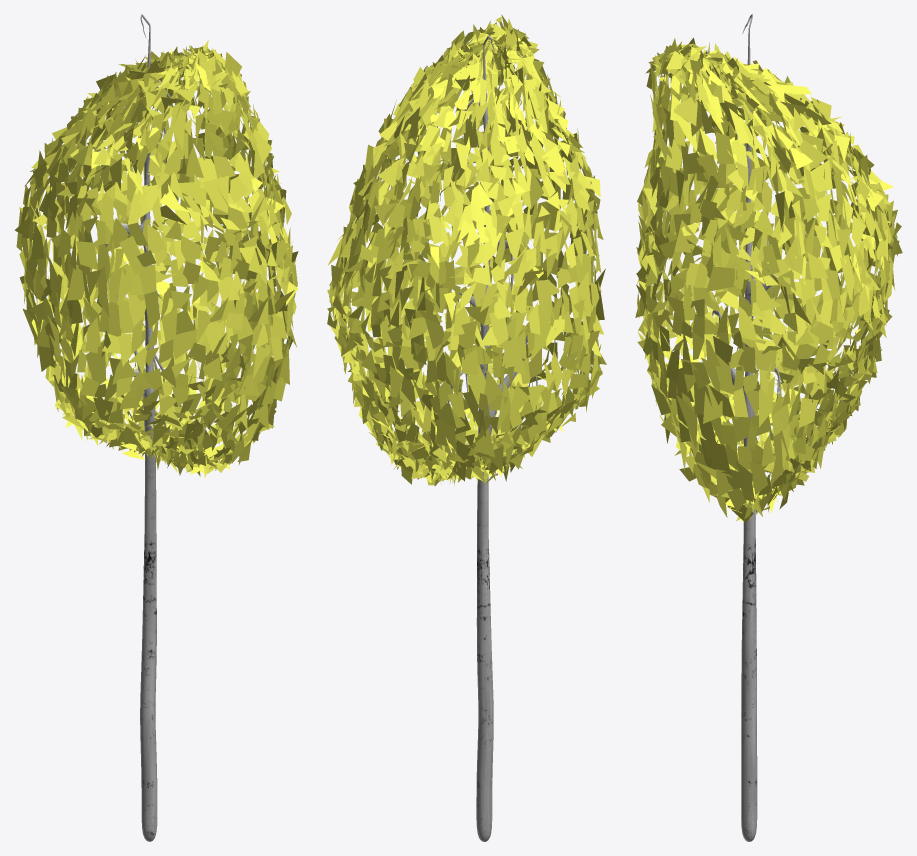
Rendered from Leaves64.001.fbx.
The picture shows the model from 3 angles, left to right: view 1: azimuth 30°, elevation 25°; view 2: azimuth 150°, elevation 25°; view 3: azimuth 270°, elevation 25°; orthographic projection. The views are drawn at different scales.
Parts seen in each view (by area): view 1: Leaves64.001; view 2: Leaves64.001; view 3: Leaves64.001.
Boxes of the visible parts, x1=… form: Leaves64.001: x1=14, y1=14, x2=298, y2=841; Leaves64.001: x1=327, y1=14, x2=606, y2=841; Leaves64.001: x1=635, y1=14, x2=902, y2=841.
Size of the model in its own units: 795 by 2612 by 768.
Materials: 2 (1 with a texture image).
